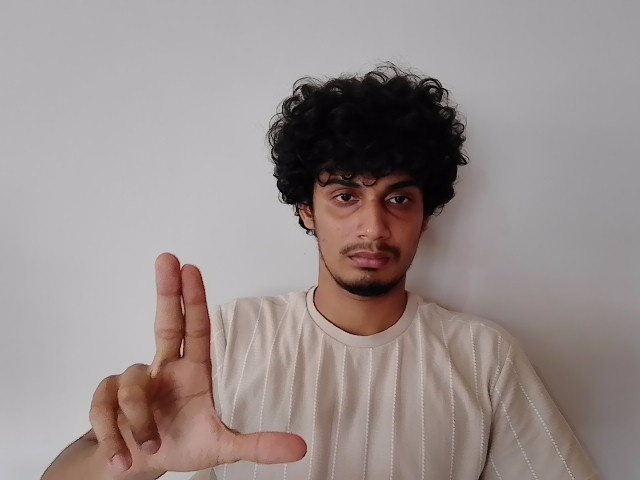no: (83, 250, 306, 468)
